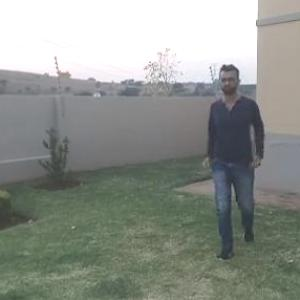follow: (204, 63, 264, 237)
